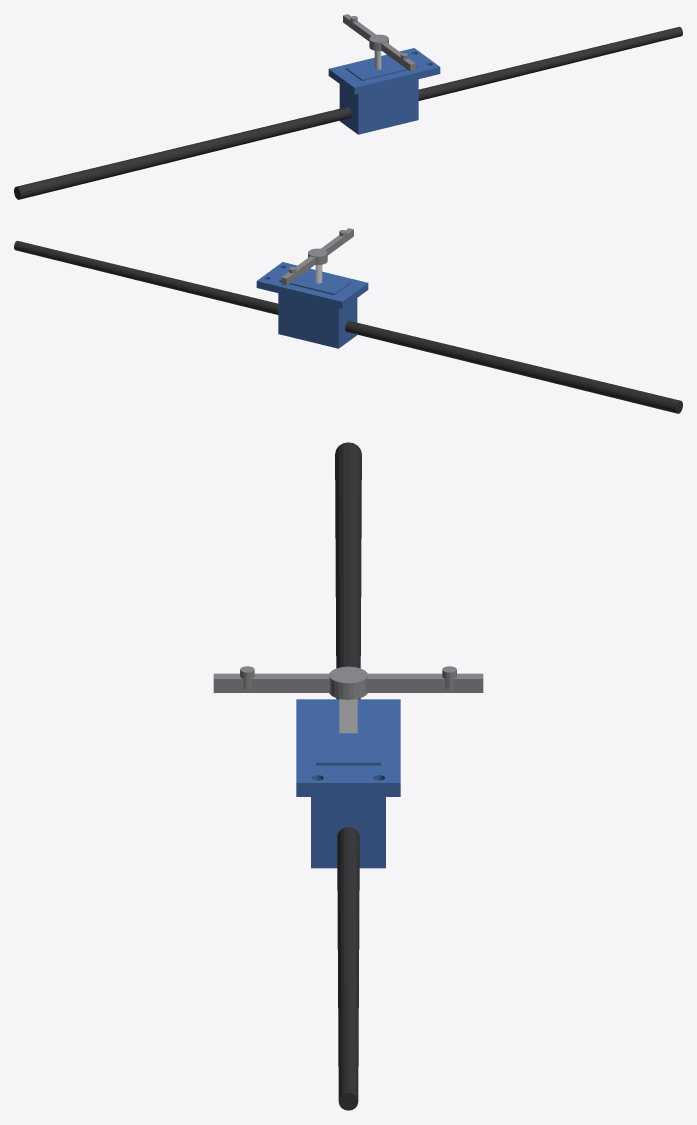
The picture shows the model from 3 angles, top to bottom: view 1: azimuth 30°, elevation 25°; view 2: azimuth 150°, elevation 25°; view 3: azimuth 270°, elevation 25°; orthographic projection. The views are drawn at different scales.
Parts seen in each view (by area): view 1: sg90_cable, sg90_case, sg90_flange, sg90_horn, sg90_top_cover; view 2: sg90_cable, sg90_case, sg90_flange, sg90_horn, sg90_top_cover; view 3: sg90_cable, sg90_flange, sg90_horn, sg90_case, sg90_top_cover.
Boxes of the visible parts, x1,y1,x2,y2 form: sg90_cable: (14, 26, 682, 199); sg90_case: (339, 79, 418, 134); sg90_flange: (328, 48, 440, 94); sg90_horn: (343, 14, 415, 71); sg90_top_cover: (346, 57, 417, 80); sg90_cable: (14, 240, 682, 413); sg90_case: (278, 293, 357, 348); sg90_flange: (256, 262, 368, 308); sg90_horn: (281, 228, 353, 285); sg90_top_cover: (279, 271, 350, 294); sg90_cable: (335, 442, 361, 1110); sg90_flange: (296, 699, 400, 796); sg90_horn: (213, 666, 483, 699); sg90_case: (311, 797, 385, 868); sg90_top_cover: (316, 709, 380, 765).
Bounding box in the file's own units: 0.25 × 0.0305 × 0.044.
